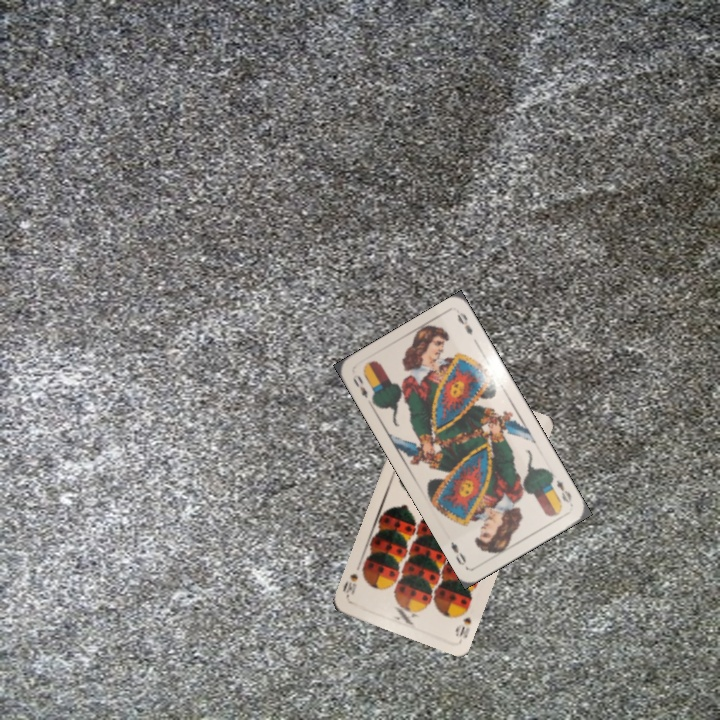EO: (348, 370, 370, 401), (552, 476, 574, 506)
S10: (451, 602, 474, 641)
